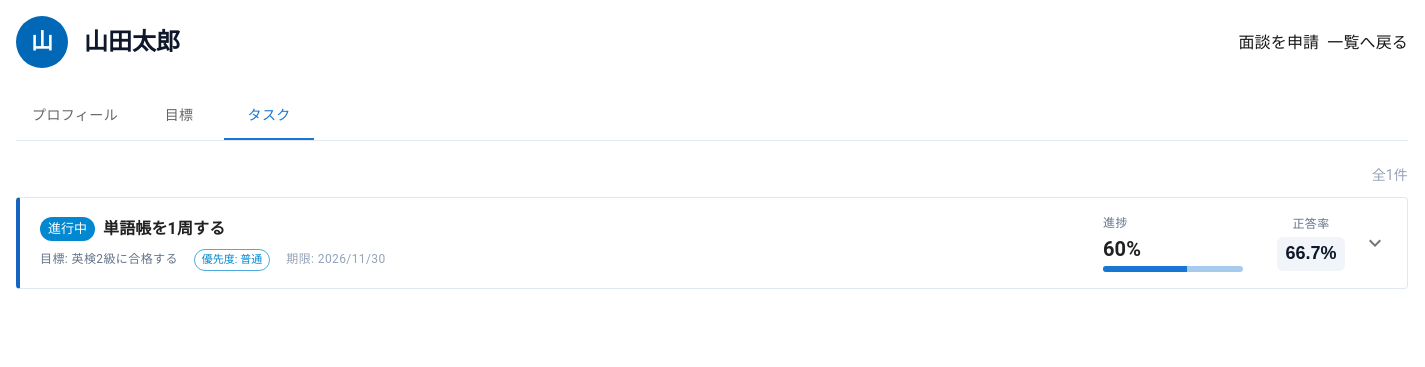
Test case: StudentDetailPresenter › タスクのUnit別の解答状況 › 紐づくUnitがないタスクは展開するとその旨が表示される
This screenshot has width=1425, height=367.
Click the heading "単語帳を1周する".
click(164, 229)  # box [103,215,225,243]
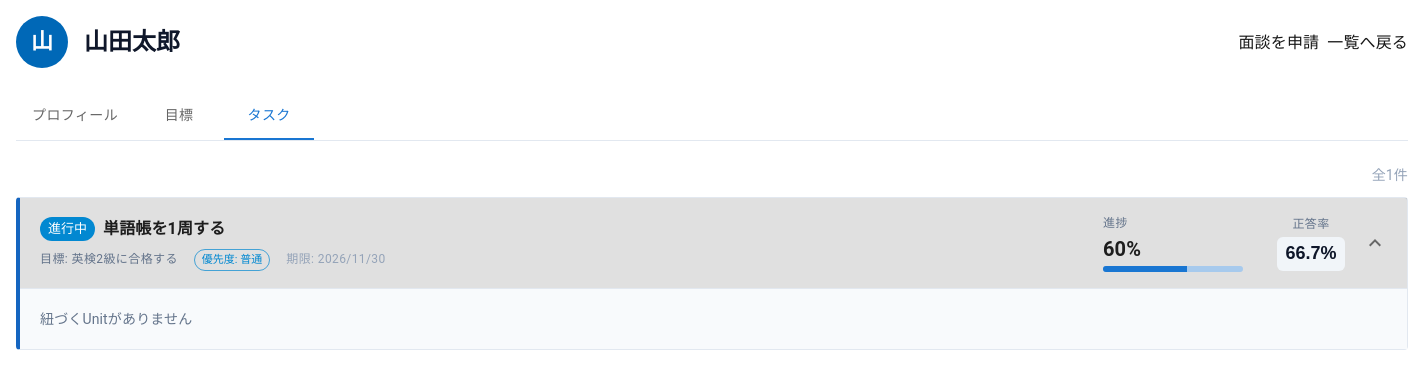
Check: the text "紐づくUnitがありません" is shown, box [40,311,192,327]
